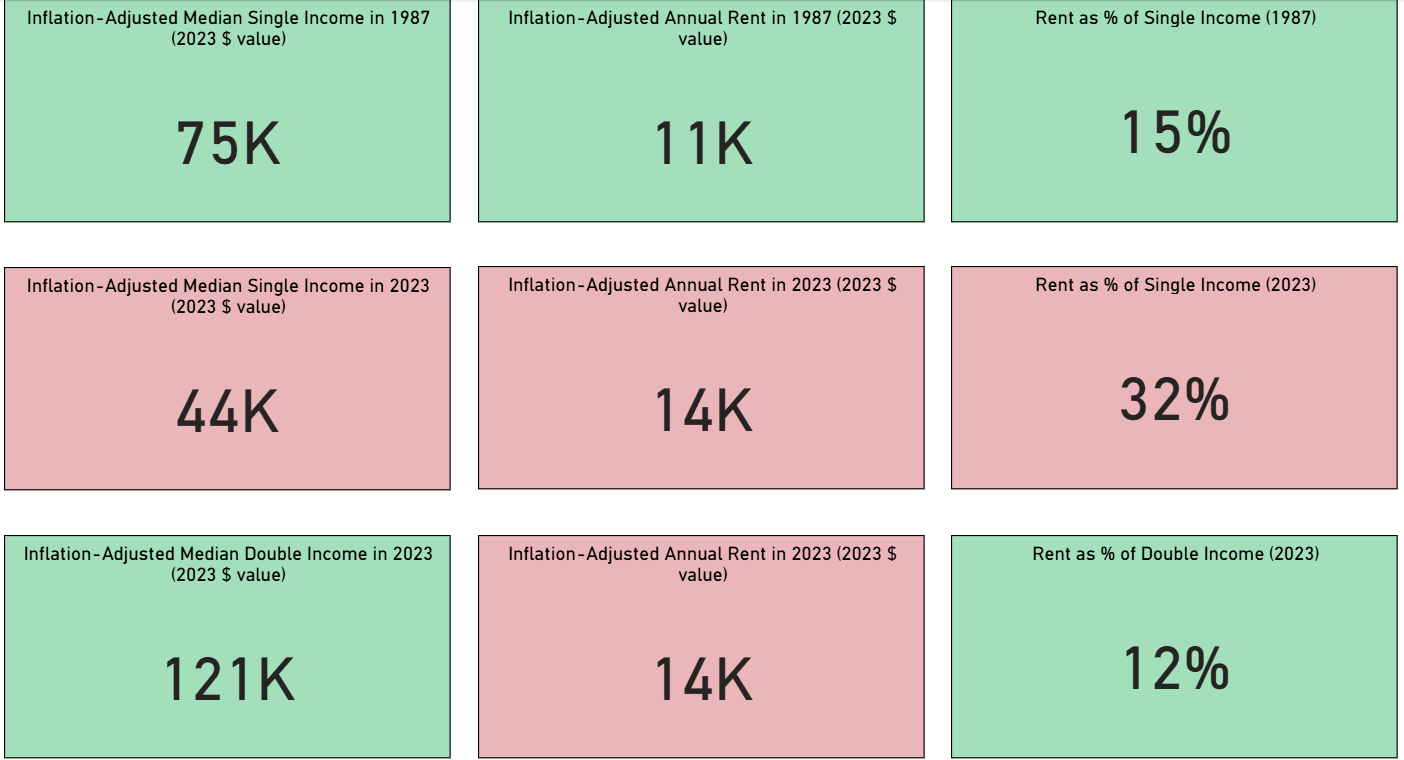

Layout of this report page (visuals, bound fields, positions):
{"tool":"powerbi","page":{"name":"Page 1","canvas":[1280,720],"ordinal":0},"visuals":[{"type":"card","title":"Inflation-Adjusted Median Single Income in 2023 (2023 $ value)","fields":{"Values":["income_rent_1987_2023_combined.RealSingleIncome2023"]},"box":[16,240,400,200],"z":0},{"type":"card","title":"Inflation-Adjusted Annual Rent in 2023 (2023 $ value)","fields":{"Values":["income_rent_1987_2023_combined.RealRent2023"]},"box":[440.4,239.3,400.2,200.1],"z":1000},{"type":"card","title":"Rent as % of Single Income (2023)","fields":{"Values":["income_rent_1987_2023_combined.RentToIncome2023Pct"]},"box":[863.9,239.3,400.2,200.1],"z":2000},{"type":"card","title":"Inflation-Adjusted Median Single Income in 1987 (2023 $ value)","fields":{"Values":["income_rent_1987_2023_combined.RealSingleIncome1987"]},"box":[15.9,0,400.2,200.1],"z":3000},{"type":"card","title":"Inflation-Adjusted Annual Rent in 1987 (2023 $ value)","fields":{"Values":["income_rent_1987_2023_combined.RealRent1987"]},"box":[440.4,0,400.2,200.1],"z":4000},{"type":"card","title":"Rent as % of Single Income (1987)","fields":{"Values":["income_rent_1987_2023_combined.RentToIncome1987Pct"]},"box":[864,0,400,200],"z":5000},{"type":"card","title":"Inflation-Adjusted Median Double Income in 2023 (2023 $ value)","fields":{"Values":["income_rent_1987_2023_combined.RealDoubleIncome2023"]},"box":[16,480,400,200],"z":6000},{"type":"card","title":"Inflation-Adjusted Annual Rent in 2023 (2023 $ value)","fields":{"Values":["income_rent_1987_2023_combined.RealRent2023"]},"box":[440.4,479.6,400.2,200.1],"z":7000},{"type":"card","title":"Rent as % of Double Income (2023)","fields":{"Values":["income_rent_1987_2023_combined.RentToDoubleIncome2023Pct"]},"box":[863.9,479.6,400.2,200.1],"z":8000}]}

Visuals, with their boxes on the page's 1280x720 design canvas (x1, y1, x2, y2). These are canvas units, not pixel positions in the 1404x760 screenshot, which may show the page scaled, cropped or inside an application window:
"Inflation-Adjusted Median Single Income in 2023 (2023 $ value)" card: (x1=16, y1=240, x2=416, y2=440)
"Inflation-Adjusted Annual Rent in 2023 (2023 $ value)" card: (x1=440, y1=239, x2=841, y2=439)
"Rent as % of Single Income (2023)" card: (x1=864, y1=239, x2=1264, y2=439)
"Inflation-Adjusted Median Single Income in 1987 (2023 $ value)" card: (x1=16, y1=0, x2=416, y2=200)
"Inflation-Adjusted Annual Rent in 1987 (2023 $ value)" card: (x1=440, y1=0, x2=841, y2=200)
"Rent as % of Single Income (1987)" card: (x1=864, y1=0, x2=1264, y2=200)
"Inflation-Adjusted Median Double Income in 2023 (2023 $ value)" card: (x1=16, y1=480, x2=416, y2=680)
"Inflation-Adjusted Annual Rent in 2023 (2023 $ value)" card: (x1=440, y1=480, x2=841, y2=680)
"Rent as % of Double Income (2023)" card: (x1=864, y1=480, x2=1264, y2=680)
